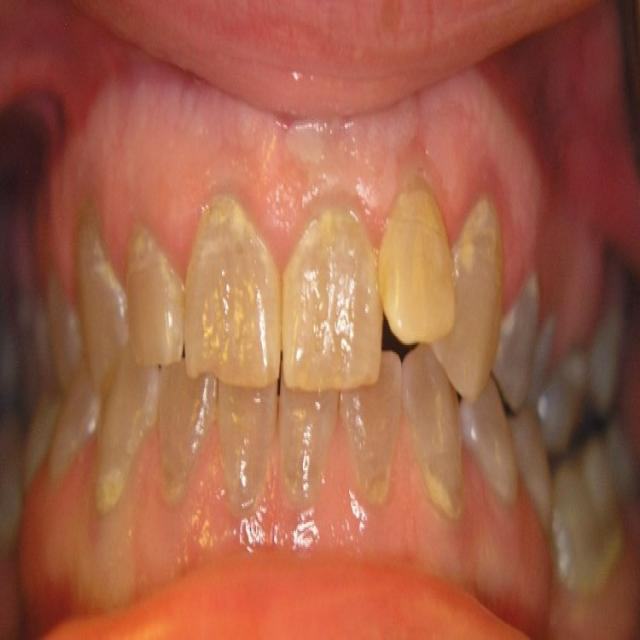LLCI_mdecay: (278, 392, 330, 504)
LLC_mdecay: (403, 347, 468, 522)
LLLI_mdecay: (341, 385, 397, 503)
LRCI_mdecay: (218, 387, 277, 510)
LRC_mdecay: (92, 366, 156, 510)
LRLI_mdecay: (155, 369, 216, 509)
ULCI_mdecay: (280, 200, 381, 386)
ULC_mdecay: (436, 207, 503, 400)
ULLI_mdecay: (382, 182, 454, 340)
URCI_mdecay: (182, 191, 278, 388)
URLI_mdecay: (126, 233, 181, 366)
